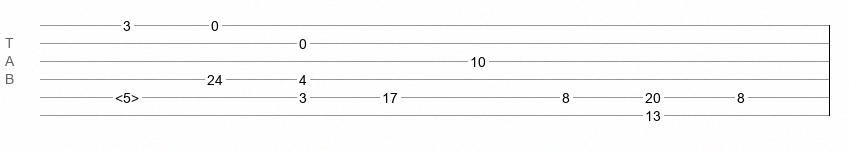0: (211, 18, 219, 28), (299, 36, 307, 46)
10: (470, 54, 486, 64)
13: (645, 108, 661, 118)
17: (382, 90, 398, 100)
20: (645, 90, 661, 100)
24: (207, 72, 223, 82)
3: (123, 18, 131, 28), (299, 90, 307, 100)
4: (299, 72, 307, 82)
8: (562, 90, 570, 100), (737, 90, 745, 100)
harmonic: (115, 90, 139, 100)
